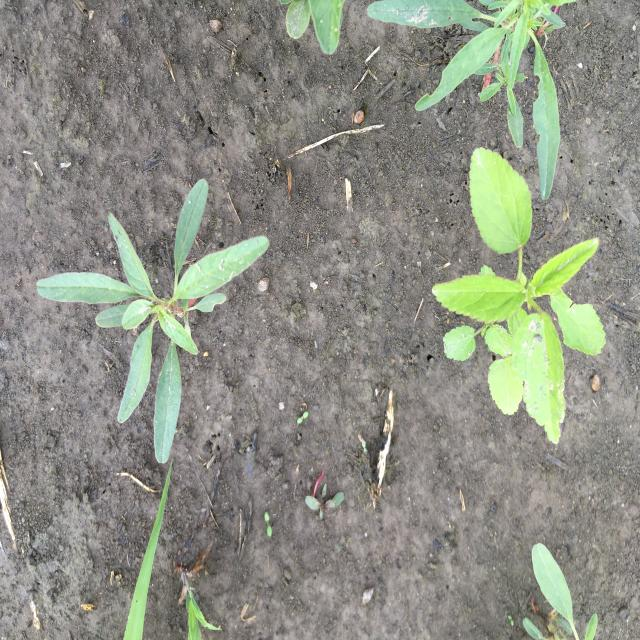PricklySida: (429, 144, 609, 447)
Waterhemp: (35, 175, 272, 467), (364, 0, 570, 203), (518, 543, 600, 639)
